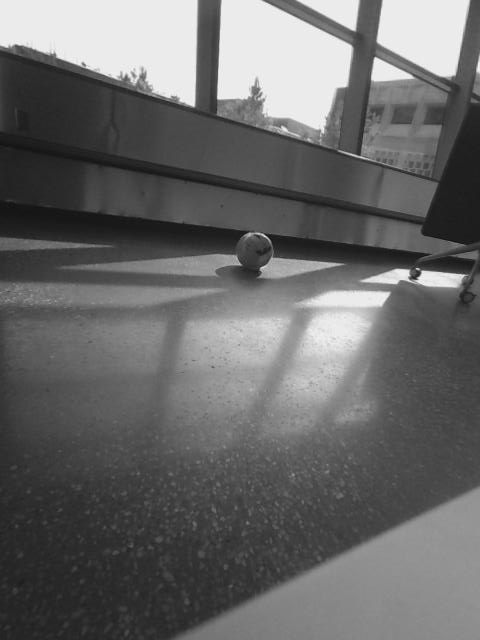ball: (235, 227, 278, 273)
